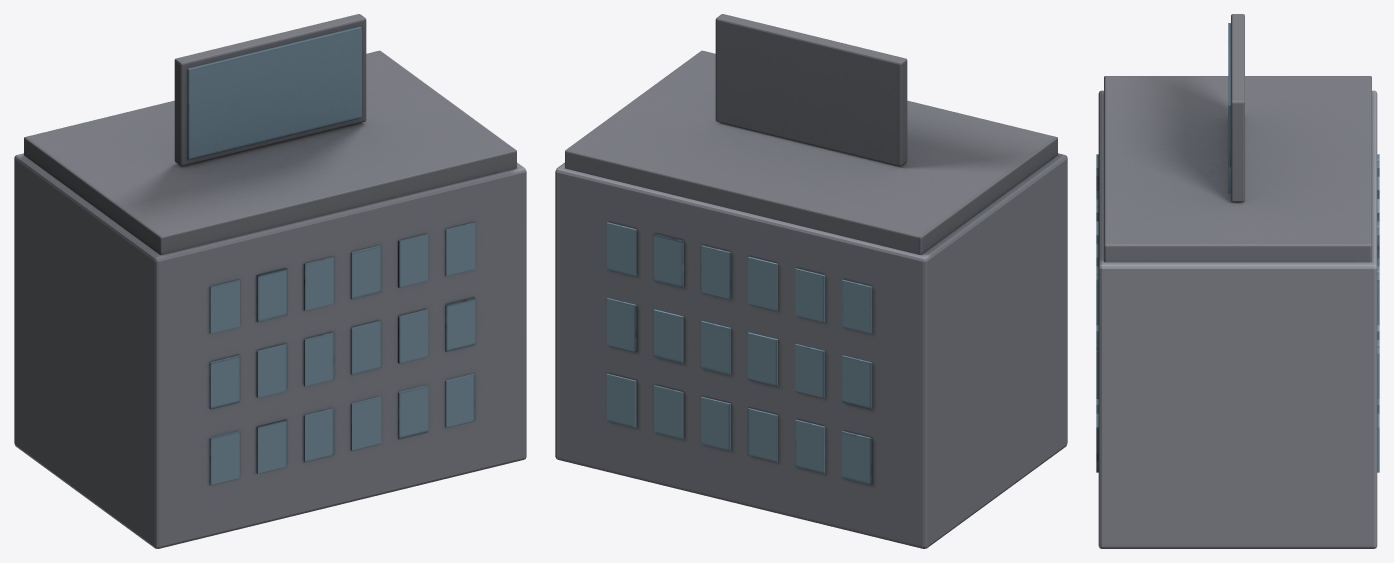
The model's file is building_c.glb.
3 views of the same model, side by side, from view 1: azimuth 30°, elevation 25°; view 2: azimuth 150°, elevation 25°; view 3: azimuth 270°, elevation 25° (orthographic). The views are drawn at different scales.
Parts seen in each view (by area): view 1: building_c; view 2: building_c; view 3: building_c.
Boxes of the visible parts, bbox=[...] form: building_c: bbox=[14, 14, 526, 548]; building_c: bbox=[555, 14, 1067, 548]; building_c: bbox=[1096, 14, 1379, 548].
Size of the model in its own units: 12 by 12.8 by 8.12.
Materials: 3 (3 with a texture image).
